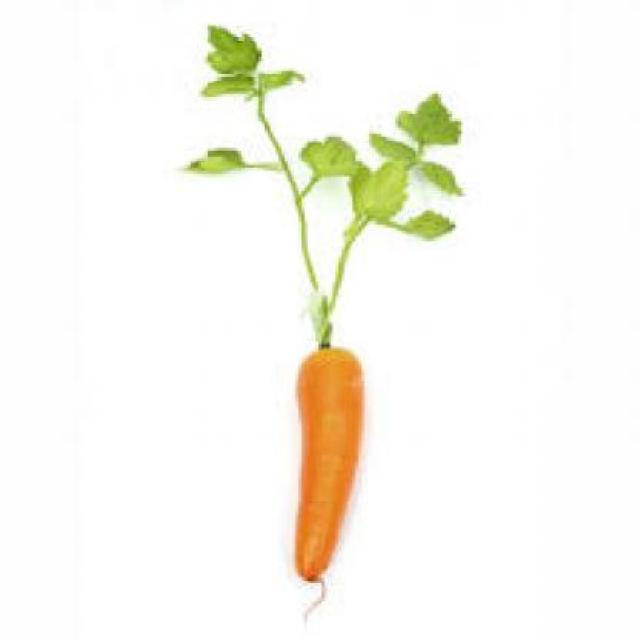BIODEGRADABLE: (182, 23, 464, 345), (296, 344, 364, 581)
